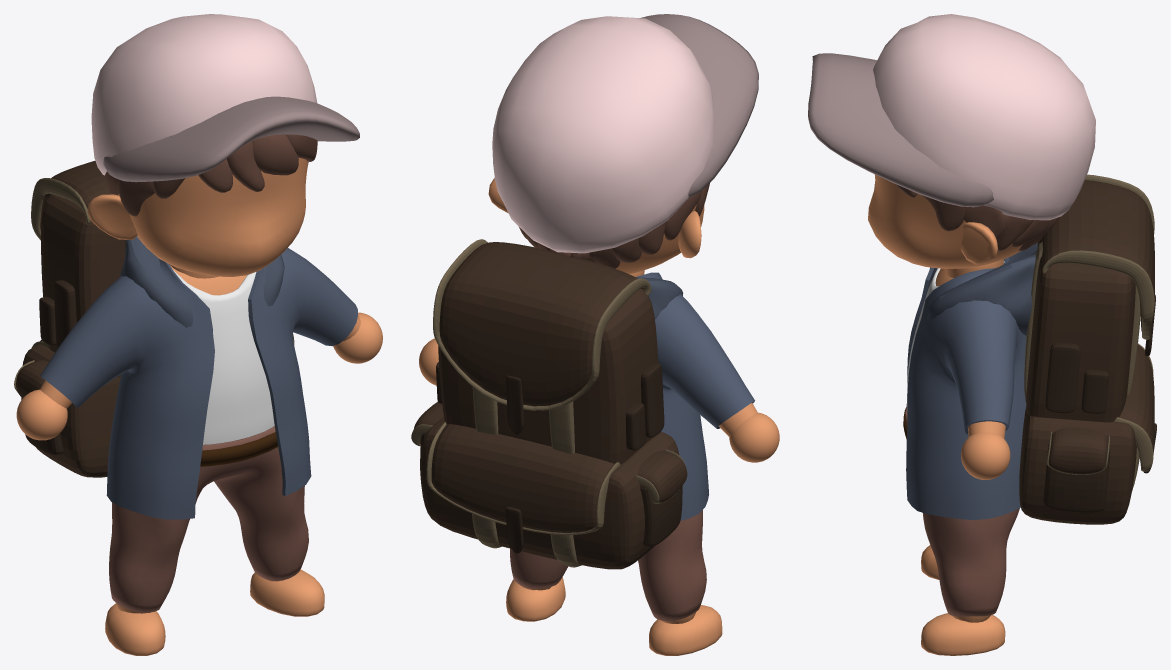
The model's file is player_v3.5.fbx.
3 renders of one model, left to right at view 1: azimuth 30°, elevation 25°; view 2: azimuth 150°, elevation 25°; view 3: azimuth 270°, elevation 25°, orthographic. The views are drawn at different scales.
Parts seen in each view (by area): view 1: Jacket.001, Hat_Top, Pants, Head, Hat_Front, Shirt, Cube.001, Hair, Feet, Cube.002, Hand, Retopo_Cube.001 (+8 smaller); view 2: Hat_Top, Cube.008, Cube.009, Cube.001, Jacket.001, Cube.002, Hat_Front, Pants, Feet, Cube.011, Hair, Hand (+14 smaller); view 3: Hat_Top, Jacket.001, Cube.001, Hat_Front, Pants, Cube.008, Cube.002, Head, Retopo_Cube.001, Feet, Hair, Cube.011 (+10 smaller).
Boxes of the visible parts, x1,y1,x2,y2 form: Jacket.001: (40, 248, 358, 519); Hat_Top: (91, 14, 317, 175); Pants: (109, 426, 308, 612); Head: (118, 158, 308, 276); Hat_Front: (103, 96, 359, 182); Shirt: (172, 268, 274, 444); Cube.001: (41, 194, 125, 376); Hair: (105, 134, 317, 216); Feet: (105, 569, 324, 655); Cube.002: (22, 344, 120, 477); Hand: (16, 312, 382, 440); Retopo_Cube.001: (120, 236, 284, 327); Hat_Top: (492, 16, 715, 253); Cube.008: (439, 242, 643, 406); Cube.009: (431, 424, 614, 532); Cube.001: (438, 288, 658, 464); Jacket.001: (636, 272, 754, 520); Cube.002: (420, 417, 682, 569); Hat_Front: (640, 14, 758, 198); Pants: (510, 510, 706, 621); Feet: (506, 577, 722, 655); Cube.011: (433, 239, 651, 410); Hair: (519, 183, 709, 268); Hand: (419, 338, 779, 462); Hat_Top: (873, 14, 1095, 220); Jacket.001: (906, 257, 1026, 519); Cube.001: (1026, 238, 1135, 422); Hat_Front: (808, 53, 993, 207); Pants: (905, 405, 1019, 616); Cube.008: (1042, 180, 1154, 331); Cube.002: (1019, 407, 1136, 524); Head: (868, 174, 1022, 268); Retopo_Cube.001: (927, 242, 1037, 335); Feet: (921, 545, 1005, 655); Hair: (895, 184, 1059, 251); Cube.011: (1042, 174, 1154, 339).
Size of the model in its own units: 180 by 288 by 156.
